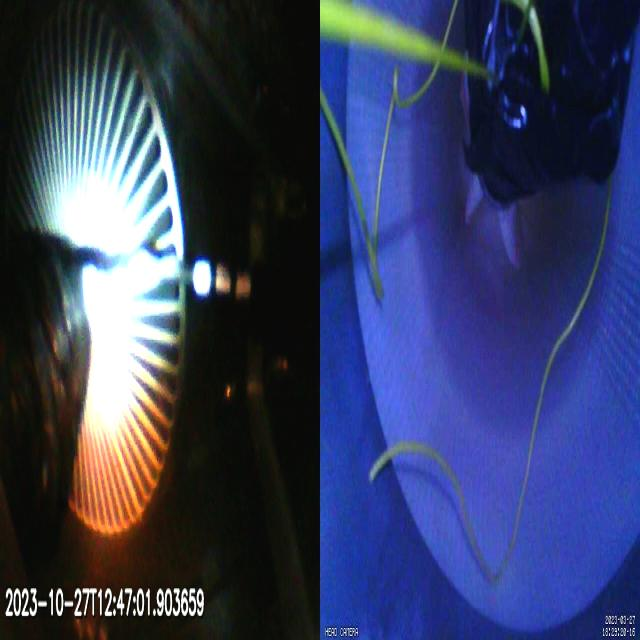white-dots: (193, 258, 251, 302)
